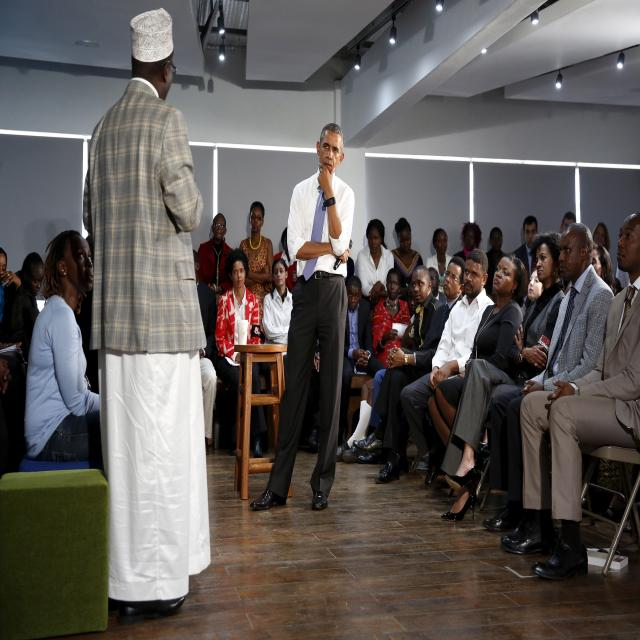body: (77, 4, 216, 622), (500, 211, 640, 583), (482, 221, 616, 546), (250, 123, 354, 512), (439, 230, 566, 523), (352, 255, 467, 485), (399, 248, 496, 487), (426, 252, 528, 448), (22, 228, 105, 466), (335, 280, 422, 465), (214, 250, 264, 460), (337, 274, 387, 448), (189, 248, 217, 455), (0, 252, 46, 374), (238, 200, 275, 337), (576, 458, 634, 542), (0, 246, 21, 467), (371, 266, 412, 372), (262, 256, 294, 388), (356, 217, 396, 311), (585, 222, 630, 295), (197, 212, 235, 296), (390, 217, 424, 300), (403, 267, 449, 316), (425, 228, 456, 294), (273, 225, 300, 293), (512, 214, 538, 280), (519, 259, 545, 324), (483, 226, 507, 296), (452, 221, 483, 263), (556, 206, 580, 236), (344, 253, 357, 286)
